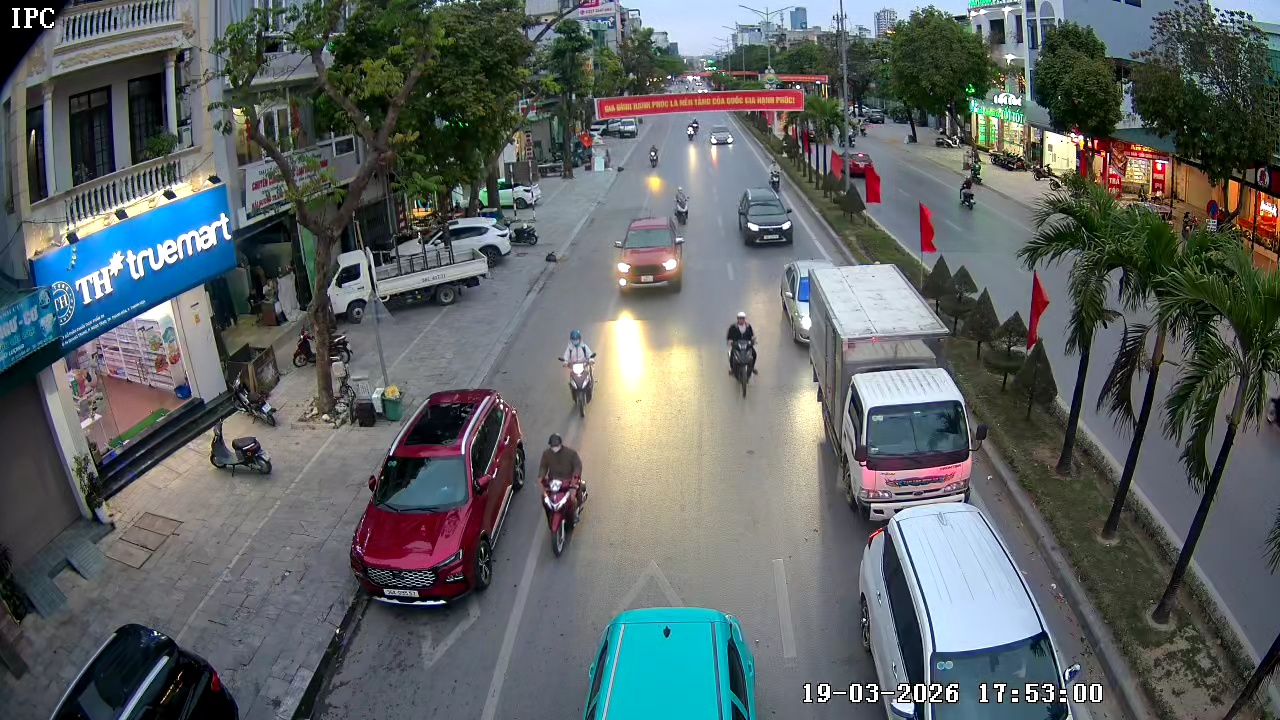car: (850, 503, 1089, 719), (347, 387, 527, 603), (579, 606, 764, 719), (46, 621, 239, 719), (779, 259, 855, 350), (613, 213, 687, 296), (735, 187, 796, 247), (710, 128, 733, 147)
motorbike: (536, 430, 590, 558), (208, 410, 275, 477), (557, 328, 600, 417), (723, 310, 761, 400), (673, 186, 691, 226), (766, 162, 782, 192), (683, 114, 700, 140), (646, 141, 660, 169)
truck: (807, 261, 983, 523)
